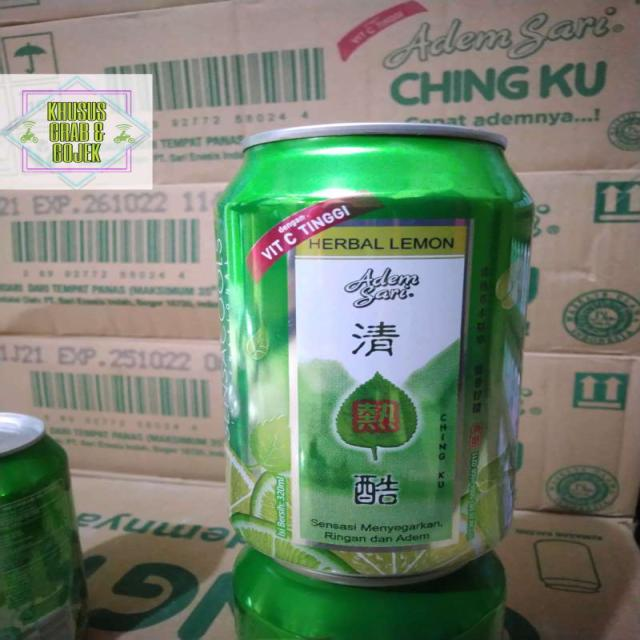ademsarikaleng: (214, 121, 536, 587)
